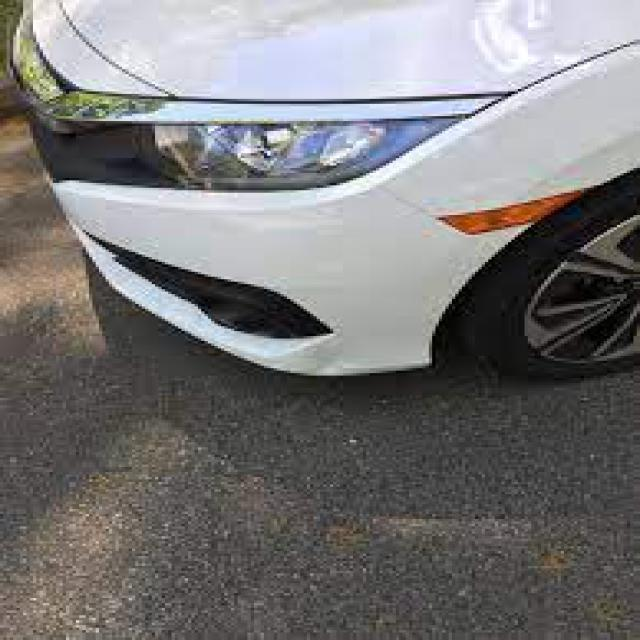front-bumper-dent: (13, 172, 614, 396)
